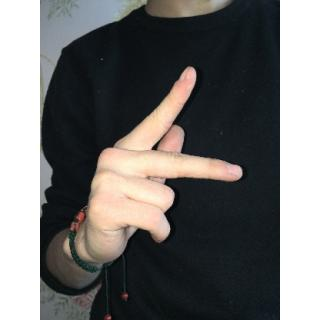DHAA: (78, 61, 244, 259)
